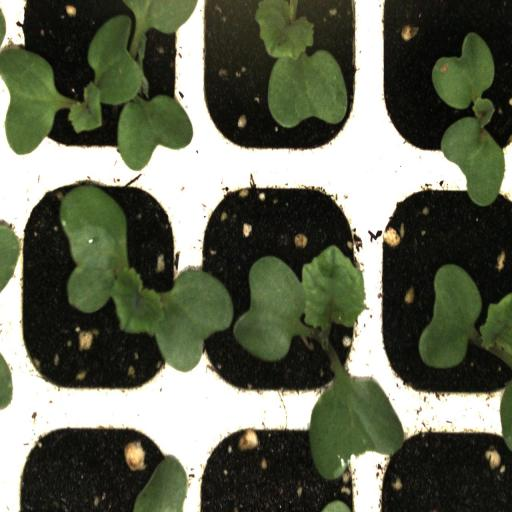seedling: (190, 170, 368, 416), (8, 172, 192, 409), (368, 168, 512, 417), (191, 0, 368, 170), (369, 0, 512, 168)
twoseedling: (8, 0, 192, 170)
